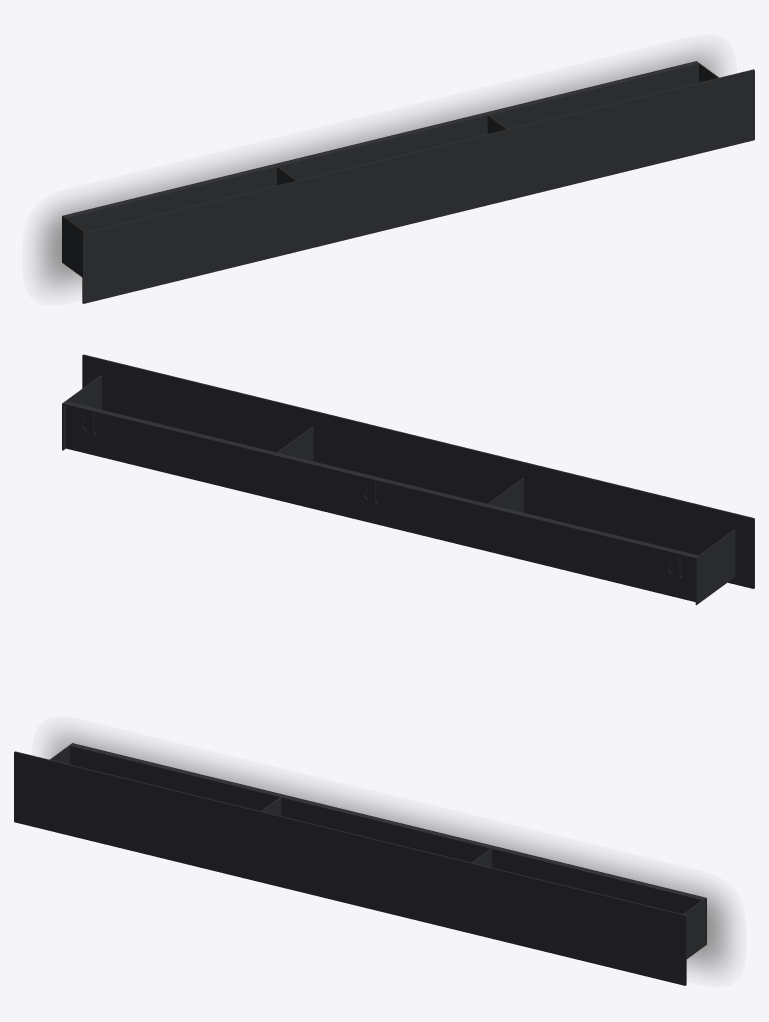
The model's file is skyline-mono.781525345b.ar.glb.
3 views of the same model, one above another, from view 1: azimuth 30°, elevation 25°; view 2: azimuth 150°, elevation 25°; view 3: azimuth 330°, elevation 25° (orthographic).
Parts seen in each view (by area): view 1: NAUO1, object 2; view 2: NAUO1; view 3: NAUO1, object 2.
Boxes of the visible parts, x1,y1,x2,y2 form: NAUO1: (62,61,754,303); object 2: (36,51,722,288); NAUO1: (62,354,754,604); NAUO1: (14,743,706,985); object 2: (46,733,732,970).
Bounding box in the file's own units: 0.98 × 0.17 × 0.092.
Materials: 2 (1 with a texture image).
